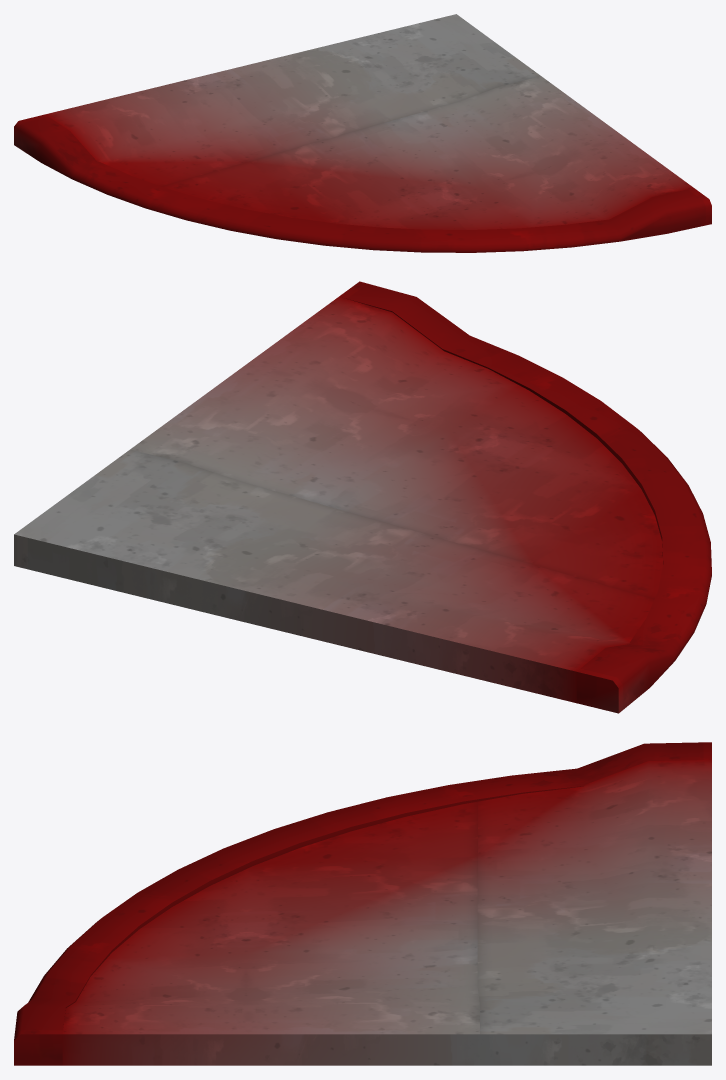
Rendered from Sidewalk_CornerRamp_Round_3m.gltf.
3 renders of one model, top to bottom at view 1: azimuth 30°, elevation 25°; view 2: azimuth 150°, elevation 25°; view 3: azimuth 270°, elevation 25°, orthographic. The views are drawn at different scales.
Parts seen in each view (by area): view 1: Sidewalk_CornerRamp_Round_3m; view 2: Sidewalk_CornerRamp_Round_3m; view 3: Sidewalk_CornerRamp_Round_3m.
Part boxes in pixels (bbox=[...]): Sidewalk_CornerRamp_Round_3m: bbox=[14, 14, 711, 252]; Sidewalk_CornerRamp_Round_3m: bbox=[14, 281, 711, 713]; Sidewalk_CornerRamp_Round_3m: bbox=[14, 742, 711, 1065].
Size of the model in its own units: 3.01 by 0.15 by 3.01.
1 material, 1 textured.
